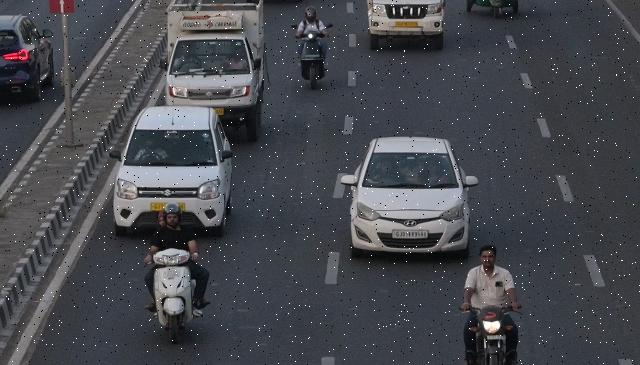With Helmet: (164, 203, 182, 227), (302, 6, 318, 24)
Without Helmet: (478, 244, 498, 266)
